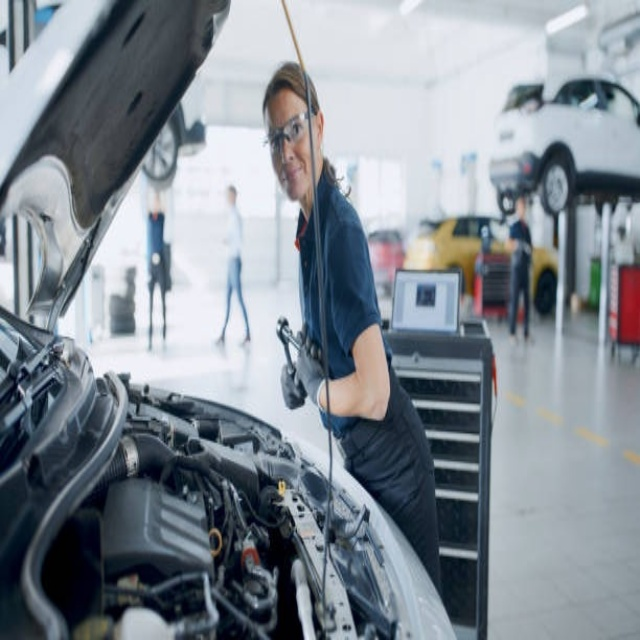Gafas: (264, 109, 313, 156)
Guantes: (293, 316, 326, 409), (281, 362, 307, 411)
Sin_mascara: (282, 153, 306, 197)
